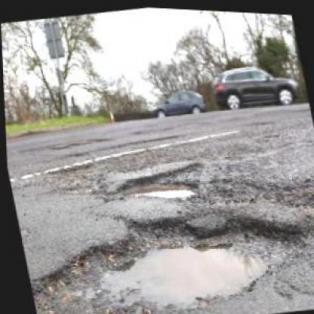Hueco: (18, 184, 313, 313), (108, 154, 208, 208), (47, 130, 108, 152), (45, 158, 90, 178)
